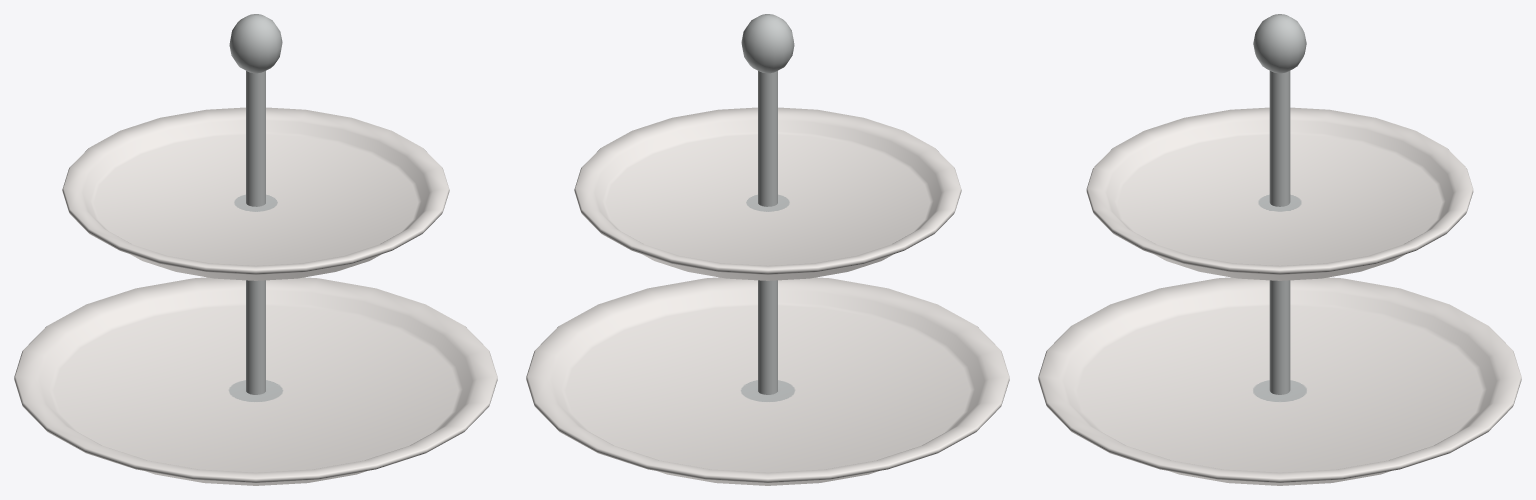
File: BuffetDesserts01_10.FBX
The picture shows the model from 3 angles, left to right: view 1: azimuth 30°, elevation 25°; view 2: azimuth 150°, elevation 25°; view 3: azimuth 270°, elevation 25°; orthographic projection.
Parts seen in each view (by area): view 1: BuffetDesserts01_10; view 2: BuffetDesserts01_10; view 3: BuffetDesserts01_10.
Boxes of the visible parts, x1,y1,x2,y2 form: BuffetDesserts01_10: [14, 14, 497, 485]; BuffetDesserts01_10: [526, 14, 1009, 485]; BuffetDesserts01_10: [1038, 14, 1521, 485].
Size of what is drawn, in the model's own units: 0.5075 by 0.4488 by 0.5075.
